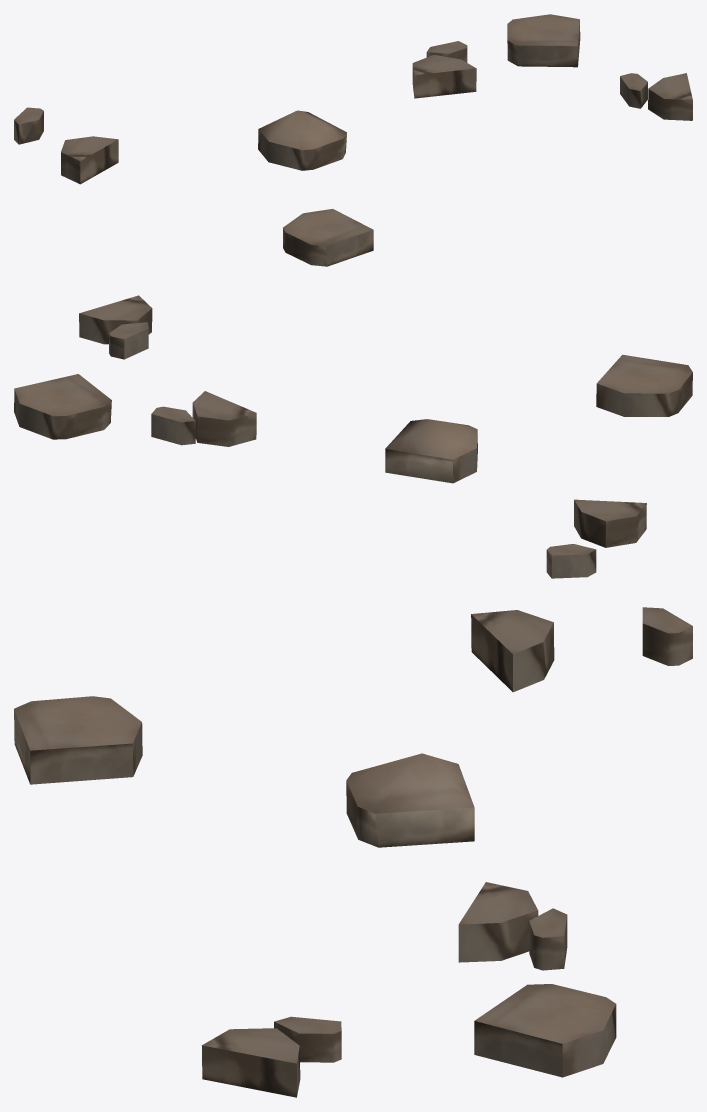
File: handan_field_a_n02c.fbx
3 renders of one model, top to bottom at view 1: azimuth 30°, elevation 25°; view 2: azimuth 150°, elevation 25°; view 3: azimuth 270°, elevation 25°, orthographic. The views are drawn at different scales.
Visible parts, largest first — view 1: handan_field_a_n02c:handan_field_a_n02c; view 2: handan_field_a_n02c:handan_field_a_n02c; view 3: handan_field_a_n02c:handan_field_a_n02c.
Boxes of the visible parts, x1=… form: handan_field_a_n02c:handan_field_a_n02c: x1=14, y1=14, x2=692, y2=266; handan_field_a_n02c:handan_field_a_n02c: x1=14, y1=295, x2=692, y2=578; handan_field_a_n02c:handan_field_a_n02c: x1=14, y1=607, x2=692, y2=1097.
Size of the model in its own units: 230 by 16.06 by 149.
